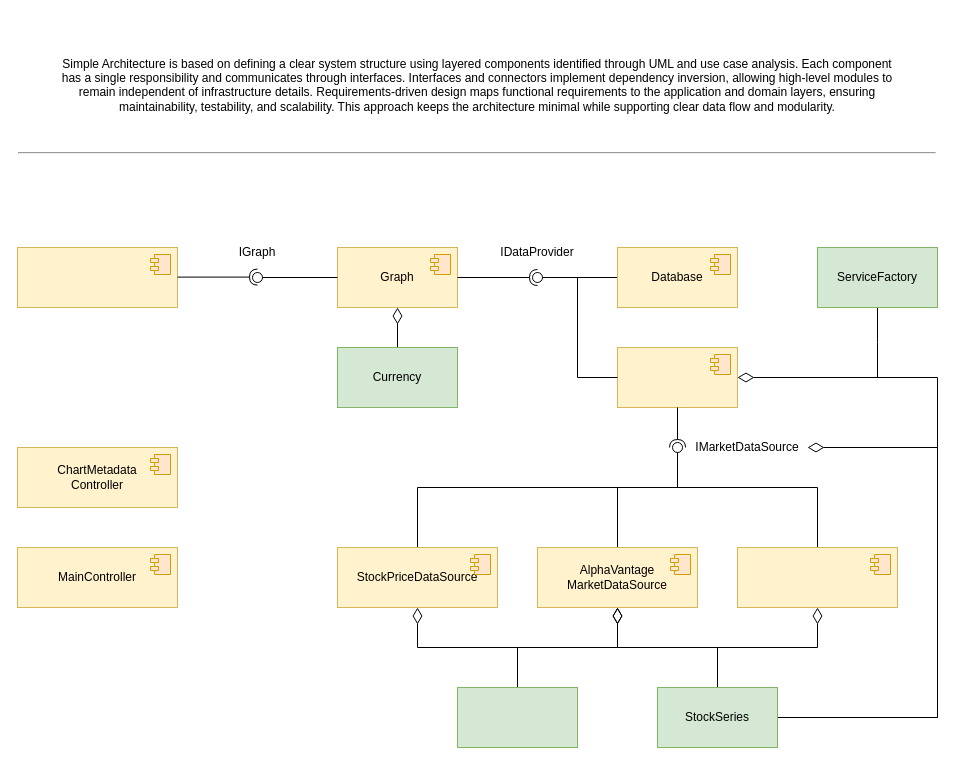
Image size: 971x765. Some labels were removed from this diagram. Here are the shapes that lost their labels. From the top down, the centre of each, then its label:
At [97,277]: "GraphController".
At [677,377]: "ApiBridge".
At [817,577]: "FakeMarketDataSource".
At [517,717]: "PricePoint".
